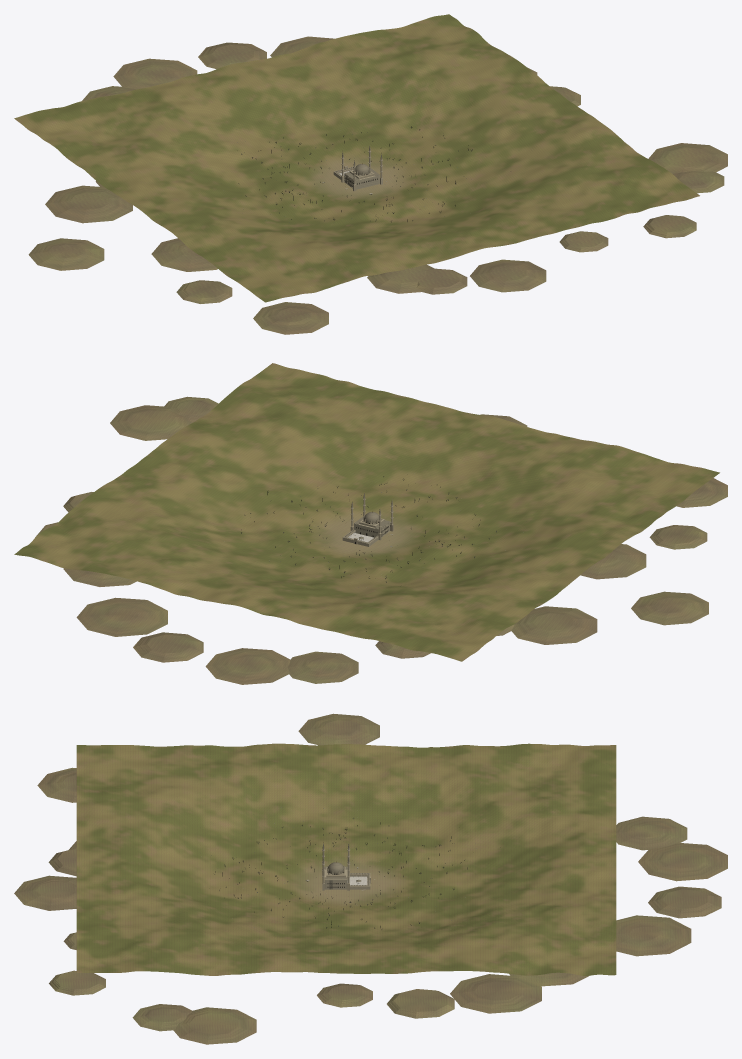
The model's file is selimiye-camii-baked.glb.
3 views of the same model, one above another, from view 1: azimuth 30°, elevation 25°; view 2: azimuth 150°, elevation 25°; view 3: azimuth 270°, elevation 25° (orthographic). The views are drawn at different scales.
Parts seen in each view (by area): view 1: selimiye-camii-terrain, selimiye-camii-ground, selimiye-camii-near; view 2: selimiye-camii-terrain, selimiye-camii-ground, selimiye-camii-near; view 3: selimiye-camii-terrain, selimiye-camii-ground, selimiye-camii-near.
Boxes of the visible parts, x1,y1,x2,y2 form: selimiye-camii-terrain: (14,14,699,302); selimiye-camii-ground: (28,36,727,334); selimiye-camii-near: (333,145,386,191); selimiye-camii-terrain: (14,363,719,661); selimiye-camii-ground: (35,396,727,684); selimiye-camii-near: (342,493,393,546); selimiye-camii-terrain: (76,743,616,975); selimiye-camii-ground: (14,713,727,1044); selimiye-camii-near: (322,842,374,893).
Size of the model in its own units: 1522 by 76.38 by 1388.
Materials: 15 (11 with a texture image).
